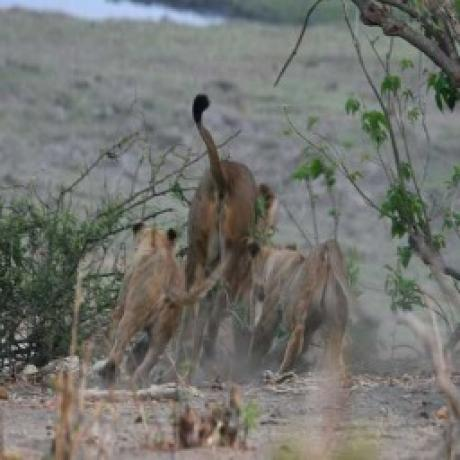Lion: (182, 65, 267, 375), (248, 235, 358, 384), (102, 216, 188, 383)
